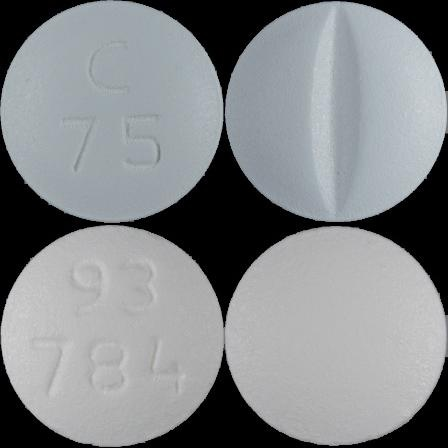54868-2990: (0, 0, 224, 224)
